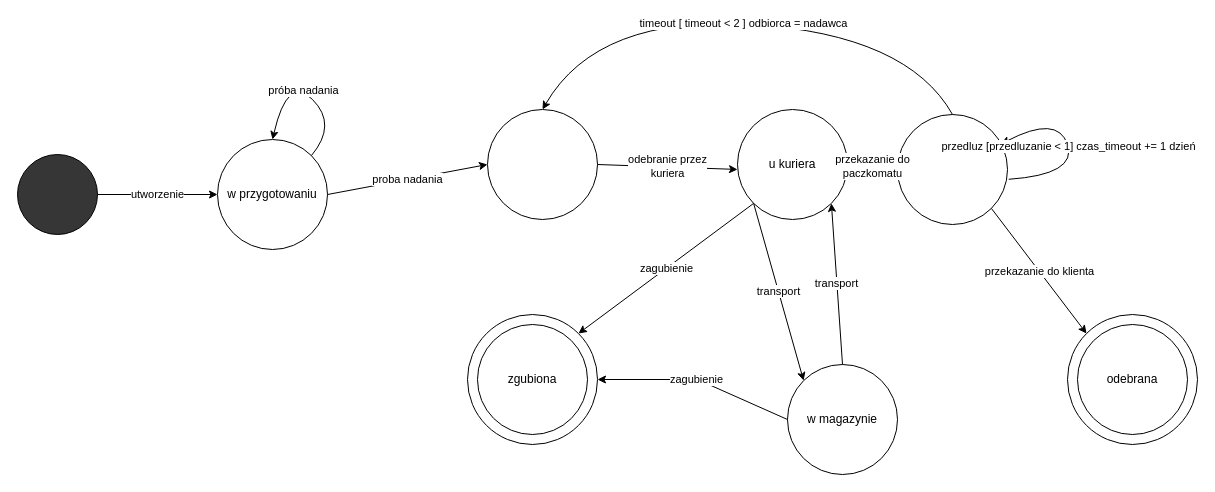
Image size: 1215x492. Some labels were removed from this diagram. Here are the shapes that lost their labels. From the top down, the box of each, then its label:
(486, 108, 598, 220): nadana w paczkomacie
(896, 114, 1008, 224): do odbioru
(16, 154, 98, 234): stan poczatkowy
